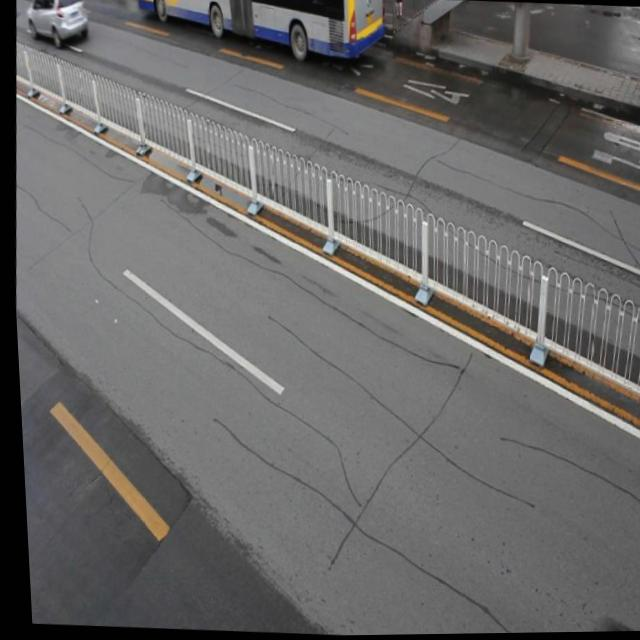car: (26, 0, 92, 48)
van: (132, 0, 387, 66)
